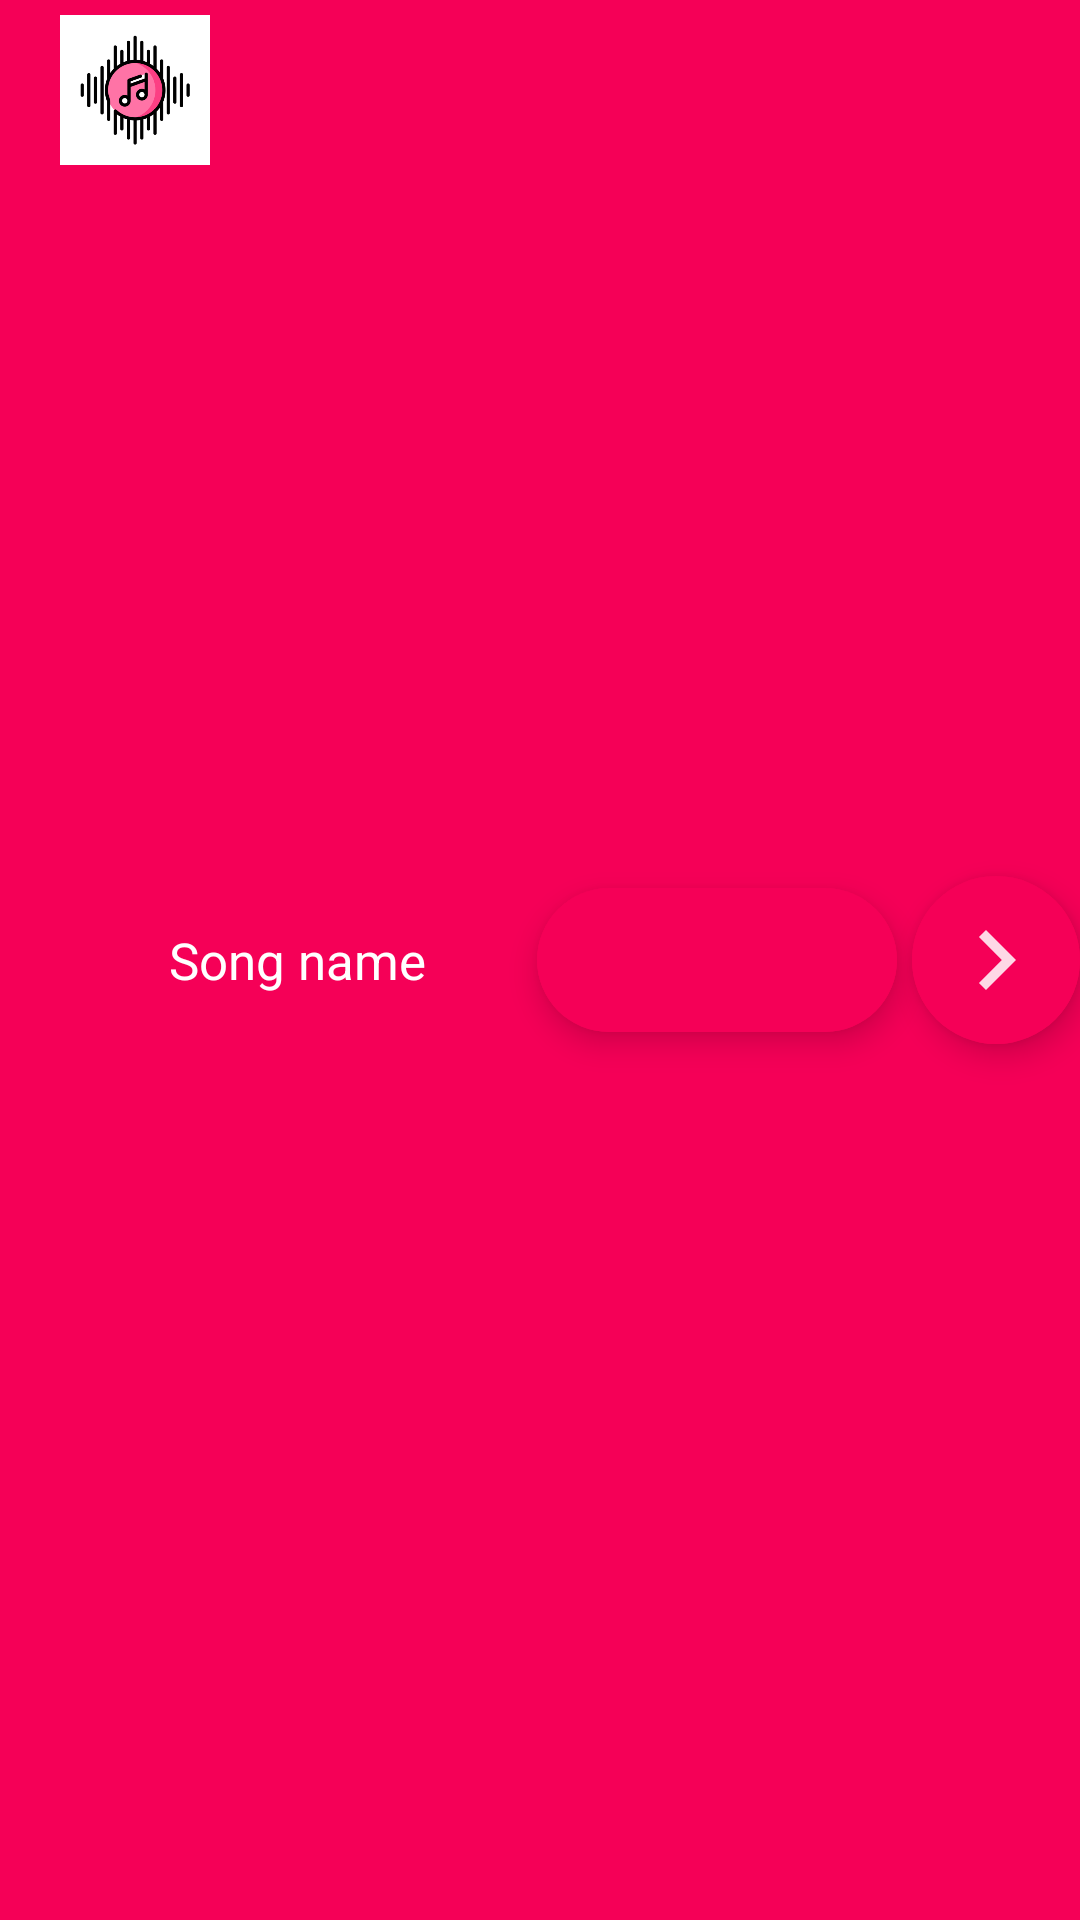

Icons on this 1080×1920 Android screen, each with its box as BBox(x1, y1, x2, y2):
music player slash screen: BBox(60, 15, 210, 165)
Next button now playing: BBox(912, 930, 1080, 1014)
